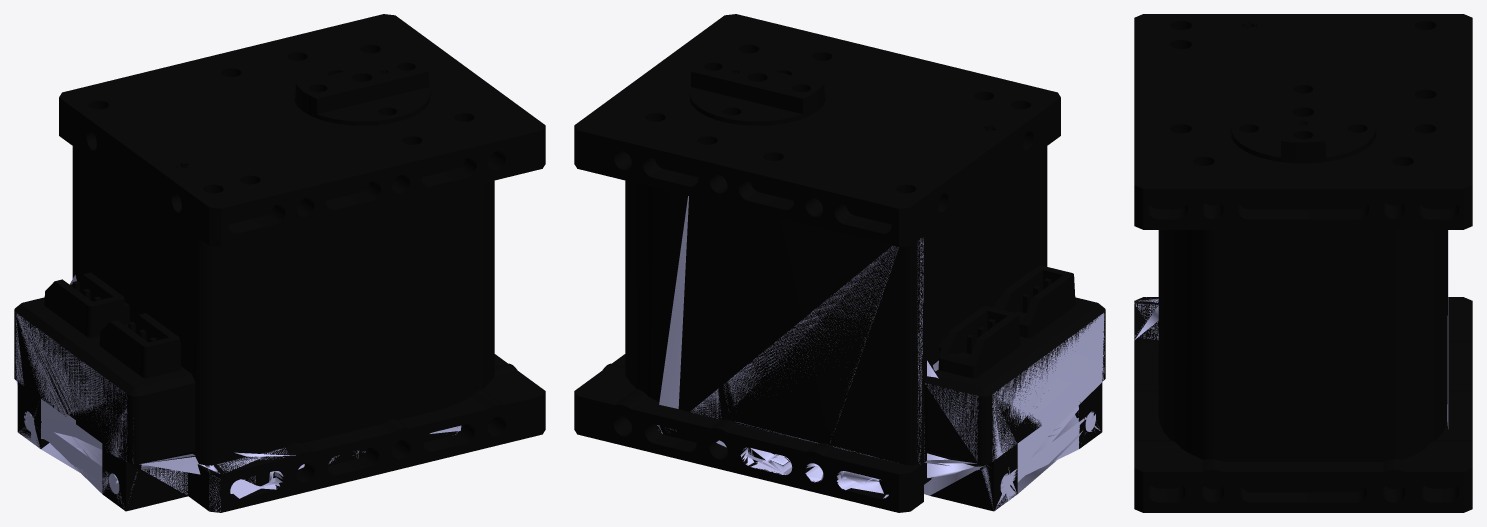
3 renders of one model, left to right at view 1: azimuth 30°, elevation 25°; view 2: azimuth 150°, elevation 25°; view 3: azimuth 270°, elevation 25°, orthographic. The views are drawn at different scales.
Parts seen in each view (by area): view 1: node0, node1; view 2: node0, node1; view 3: node0, node1.
Boxes of the visible parts, left/top/right/bottom form: node0: left=14, top=14, right=545, bottom=512; node1: left=15, top=275, right=461, bottom=512; node0: left=574, top=14, right=1105, bottom=512; node1: left=657, top=196, right=1104, bottom=511; node0: left=1134, top=14, right=1472, bottom=512; node1: left=1134, top=230, right=1448, bottom=428.
Bounding box in the file's own units: 0.0542 × 0.042 × 0.0374.
